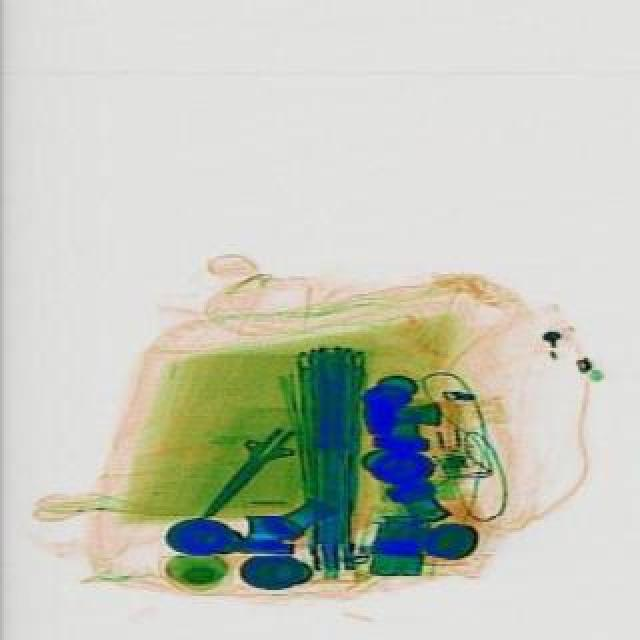knife: (188, 410, 306, 530)
